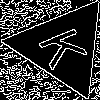K: (37, 22, 98, 71)
